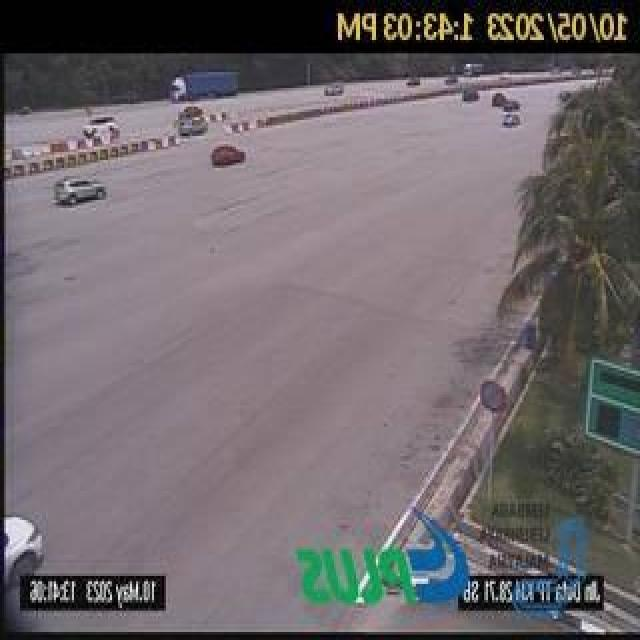Car: (54, 175, 108, 206), (211, 143, 246, 165), (84, 116, 118, 134), (190, 115, 210, 134), (180, 104, 203, 117), (503, 112, 521, 128), (461, 87, 480, 102), (324, 83, 345, 96), (404, 72, 422, 86), (178, 118, 192, 135), (492, 92, 506, 108)
Cycle: (170, 70, 243, 100)
Truck: (463, 63, 485, 76)
